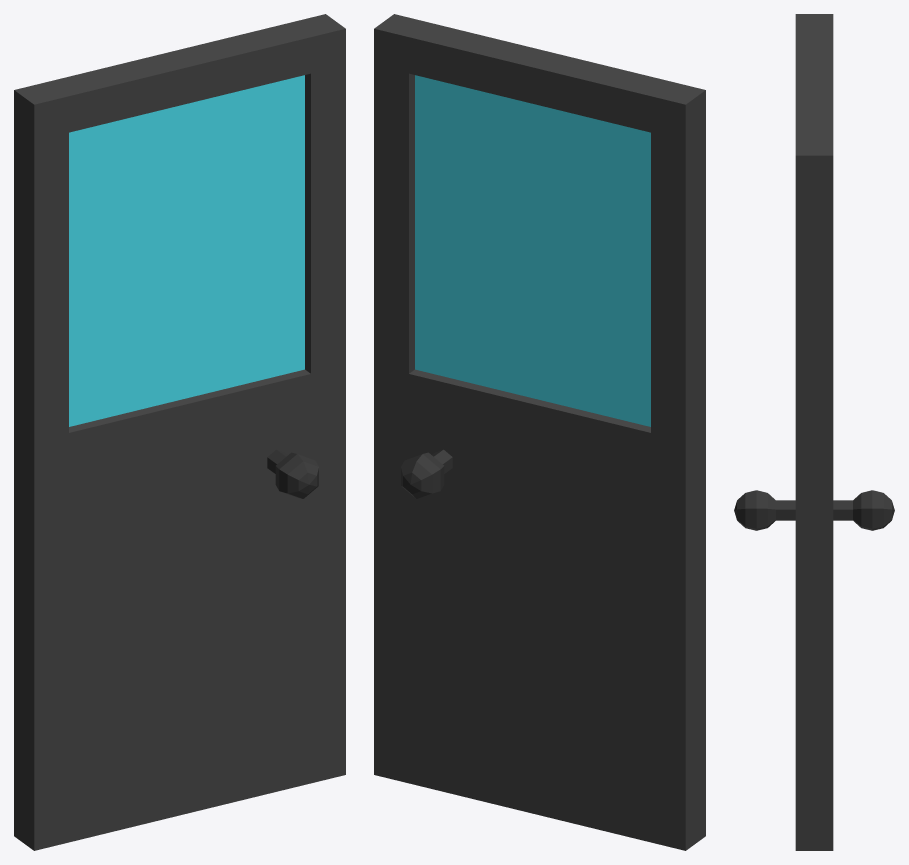
Rendered from SM_Buildings_Factory_03_Door_L.fbx.
The picture shows the model from 3 angles, left to right: view 1: azimuth 30°, elevation 25°; view 2: azimuth 150°, elevation 25°; view 3: azimuth 270°, elevation 25°; orthographic projection. The views are drawn at different scales.
Visible parts, largest first — view 1: SM_Buildings_Factory_03_Door_L; view 2: SM_Buildings_Factory_03_Door_L; view 3: SM_Buildings_Factory_03_Door_L.
Boxes of the visible parts, x1,y1,x2,y2 form: SM_Buildings_Factory_03_Door_L: (14, 14, 345, 850); SM_Buildings_Factory_03_Door_L: (374, 14, 705, 850); SM_Buildings_Factory_03_Door_L: (734, 14, 894, 850).
Size of the model in its own units: 0.896 by 2.05 by 0.4298.
